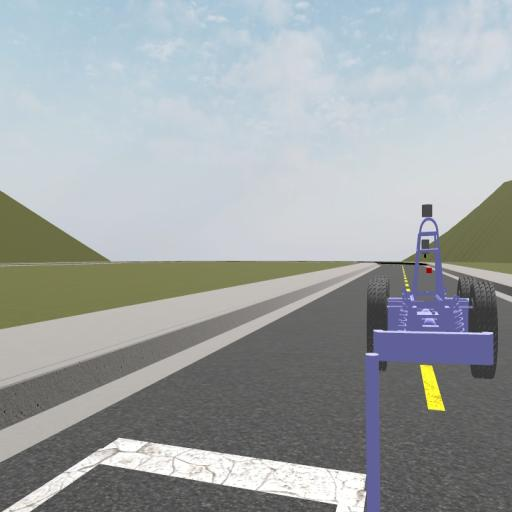ERP-42: (368, 204, 500, 382)
